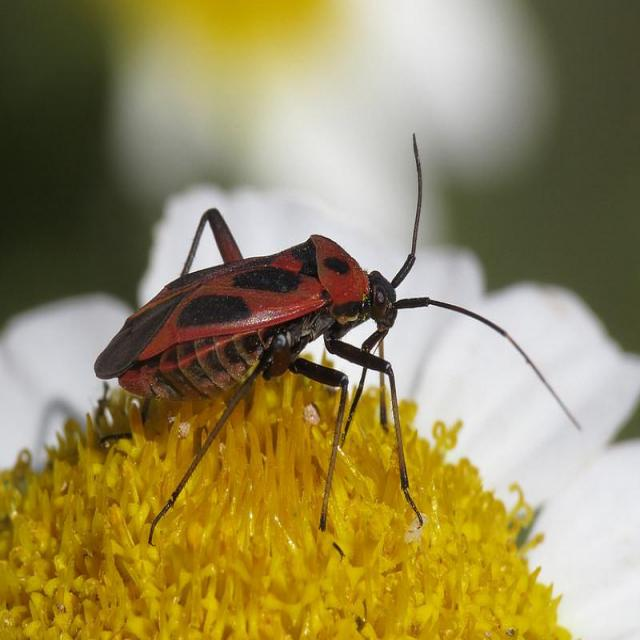Miridae-Adult-: (85, 130, 589, 536)
